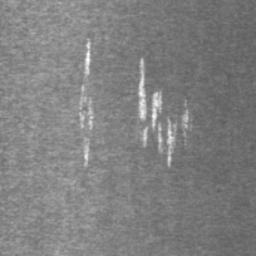White rust: (137, 57, 190, 167), (78, 83, 94, 130), (83, 36, 93, 79), (83, 137, 91, 167)
